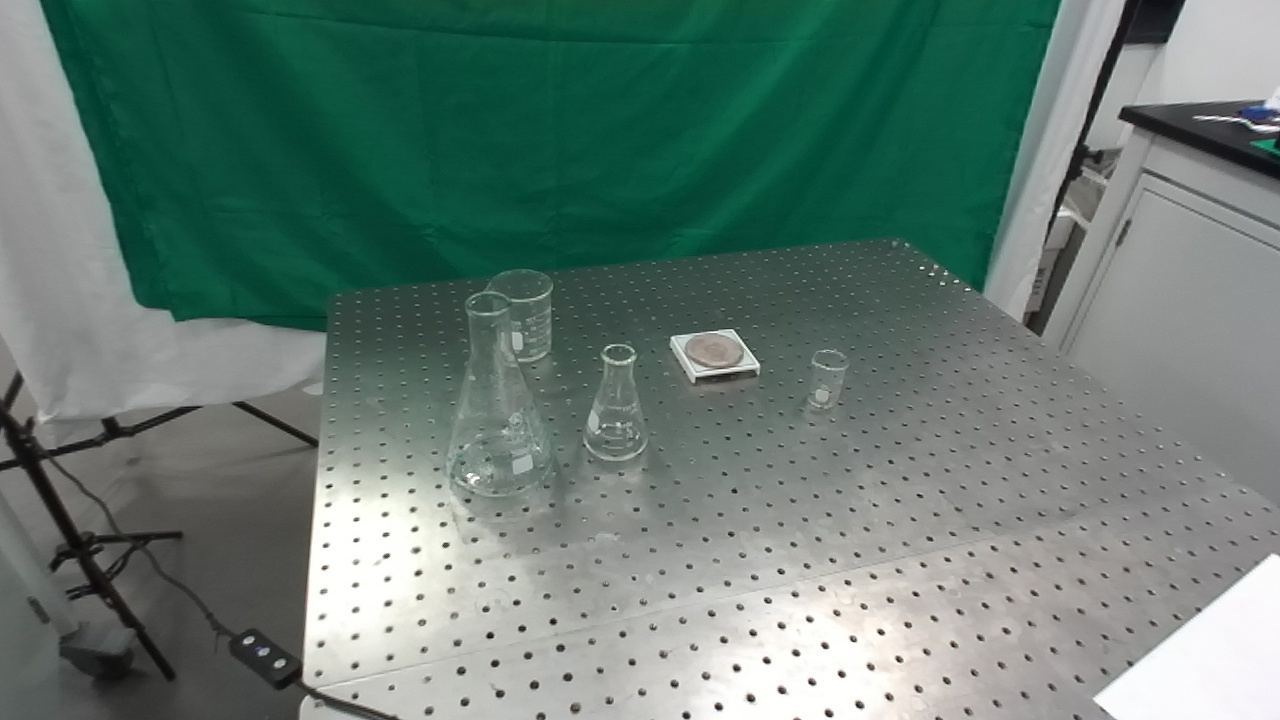glass: (433, 288, 558, 498), (582, 340, 649, 469), (481, 266, 558, 362), (803, 346, 850, 411)
plate: (665, 326, 764, 386)
